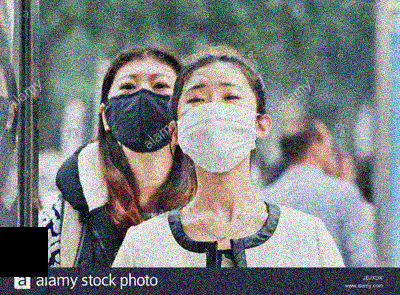with_mask: (176, 79, 259, 175), (105, 70, 180, 155)
